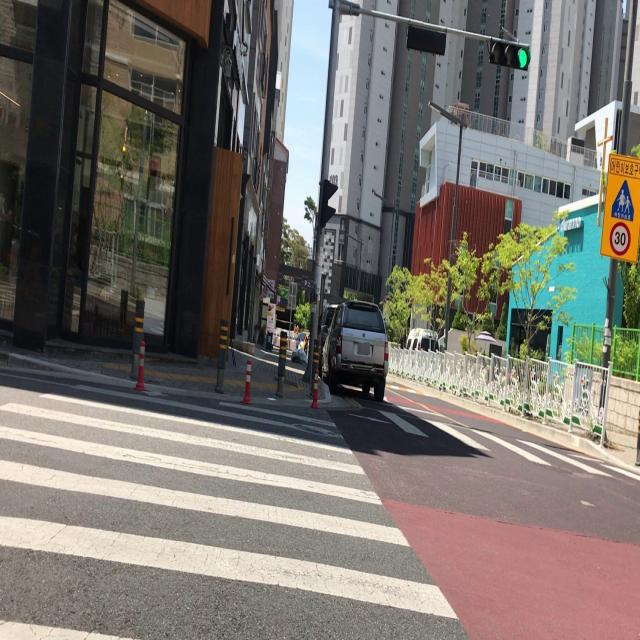횡단보도: (0, 381, 460, 639), (460, 428, 640, 482)
